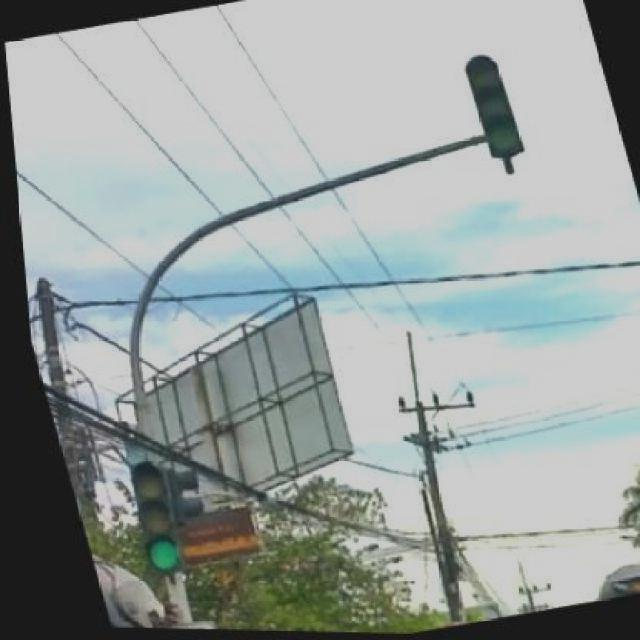Green: (125, 458, 188, 580)
